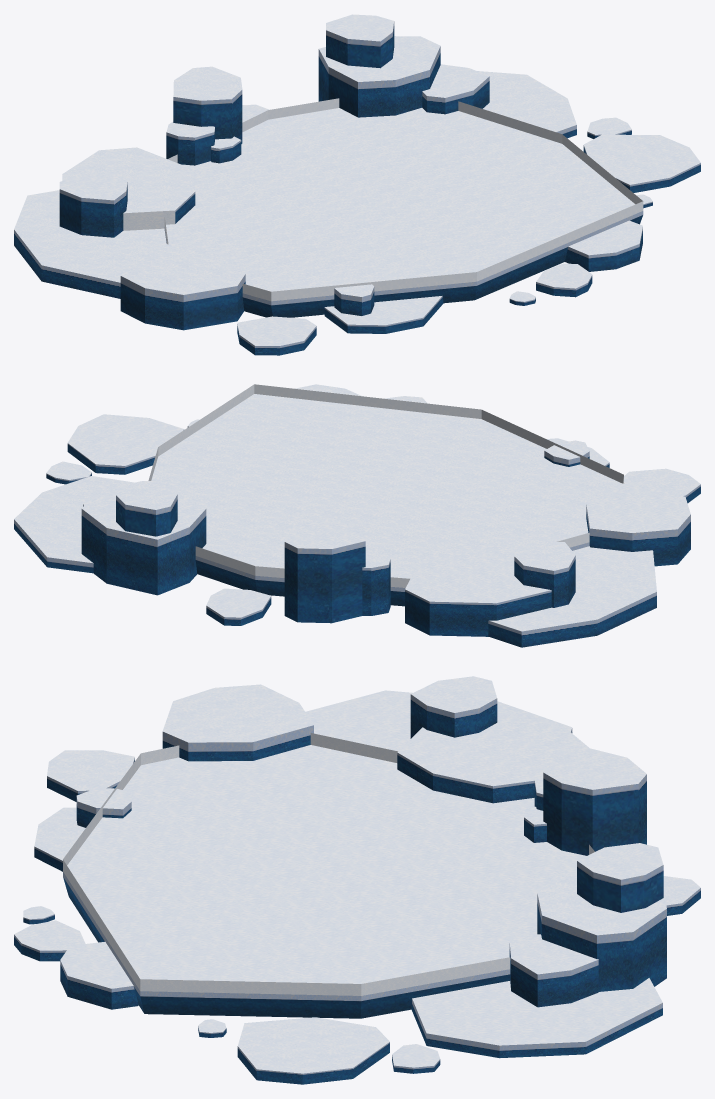
Rendered from map_winter.fbx.
The picture shows the model from 3 angles, top to bottom: view 1: azimuth 30°, elevation 25°; view 2: azimuth 150°, elevation 25°; view 3: azimuth 270°, elevation 25°; orthographic projection. The views are drawn at different scales.
Parts seen in each view (by area): view 1: Plane, Plane.001, fence; view 2: Plane, Plane.001, fence; view 3: Plane.001, Plane, fence.
Boxes of the visible parts, x1,y1,x2,y2 form: Plane: [14, 14, 700, 355]; Plane.001: [164, 108, 643, 317]; fence: [164, 98, 643, 301]; Plane: [14, 384, 700, 647]; Plane.001: [151, 394, 621, 606]; fence: [148, 384, 623, 587]; Plane.001: [63, 745, 586, 1018]; Plane: [14, 676, 700, 1084]; fence: [63, 733, 594, 995].
Bounding box in the file's own units: 135 × 17.4 × 105.
